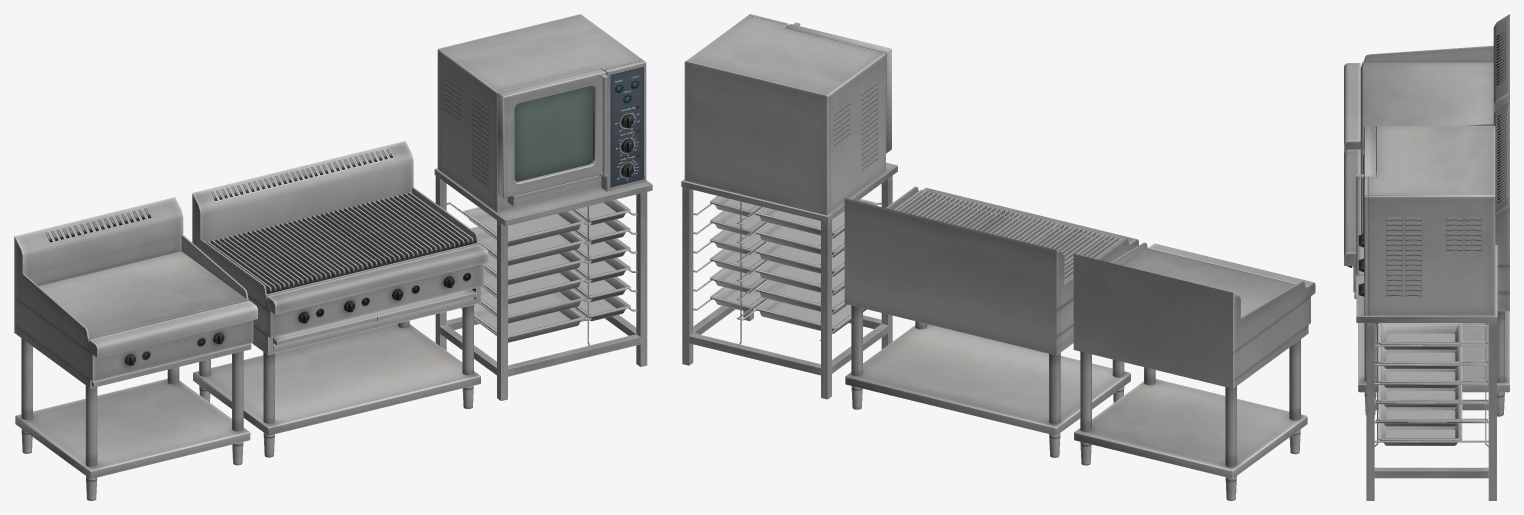
File: commercialkitchenpack2.FBX
3 views of the same model, side by side, from view 1: azimuth 30°, elevation 25°; view 2: azimuth 150°, elevation 25°; view 3: azimuth 270°, elevation 25° (orthographic).
Visible parts, largest first — view 1: commercialkitchenpack2_grill, commercialkitchenpack2_griddle, commercialkitchenpack2_oven, commercialkitchenpack2_oven_door; view 2: commercialkitchenpack2_oven, commercialkitchenpack2_grill, commercialkitchenpack2_griddle, commercialkitchenpack2_oven_door; view 3: commercialkitchenpack2_oven, commercialkitchenpack2_griddle, commercialkitchenpack2_grill, commercialkitchenpack2_oven_door.
Boxes of the visible parts, box(x1,y1,x2,y2) form: commercialkitchenpack2_grill: box(192, 141, 488, 457); commercialkitchenpack2_griddle: box(14, 197, 257, 500); commercialkitchenpack2_oven: box(434, 14, 652, 400); commercialkitchenpack2_oven_door: box(497, 68, 608, 198); commercialkitchenpack2_oven: box(681, 14, 897, 399); commercialkitchenpack2_grill: box(844, 186, 1138, 457); commercialkitchenpack2_griddle: box(1073, 242, 1315, 500); commercialkitchenpack2_oven_door: box(785, 22, 891, 153); commercialkitchenpack2_oven: box(1356, 126, 1497, 500); commercialkitchenpack2_griddle: box(1344, 14, 1509, 153); commercialkitchenpack2_grill: box(1344, 101, 1509, 416); commercialkitchenpack2_oven_door: box(1356, 126, 1375, 276).
Bounding box in the file's own units: 122 × 63.51 × 31.36.
